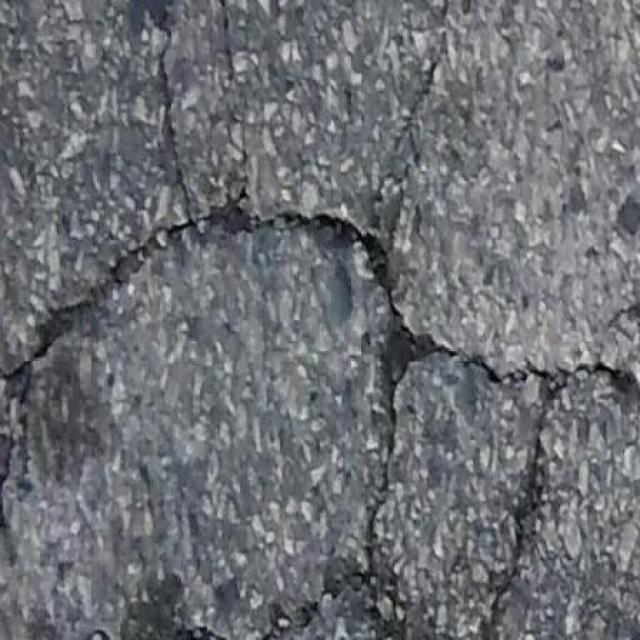Crack: (0, 61, 640, 640), (162, 55, 189, 207), (611, 296, 640, 317), (181, 628, 234, 639), (81, 629, 119, 639), (222, 0, 229, 32), (442, 0, 449, 21)
